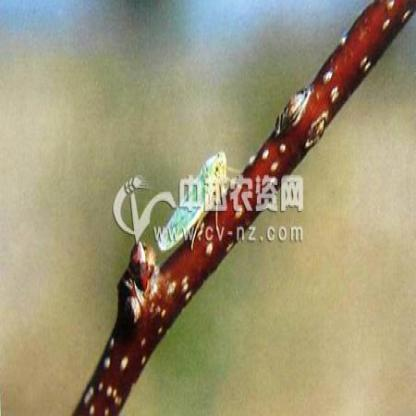Green-Leafhopper: (156, 151, 235, 258)
